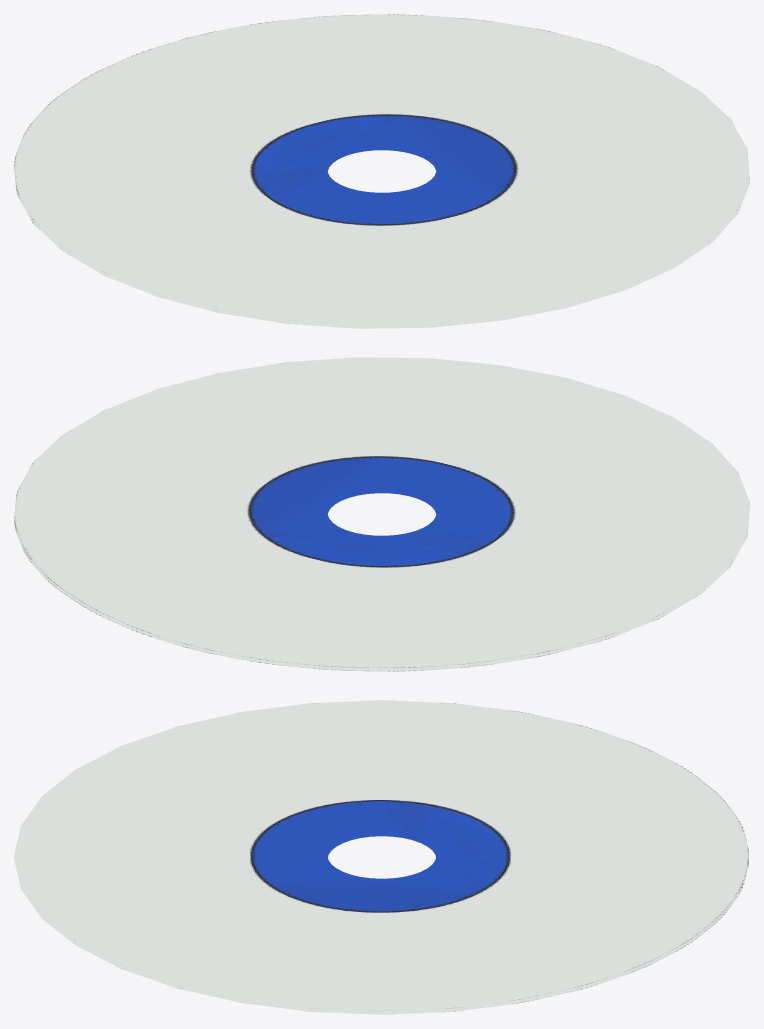
The model's file is laserdisc.obj.
3 renders of one model, top to bottom at view 1: azimuth 30°, elevation 25°; view 2: azimuth 150°, elevation 25°; view 3: azimuth 270°, elevation 25°, orthographic.
Visible parts, largest first — view 1: default; view 2: default; view 3: default.
Boxes of the visible parts, x1,y1,x2,y2 form: default: (14, 14, 749, 328); default: (14, 357, 749, 671); default: (14, 700, 748, 1014).
Size of the model in its own units: 0.24 by 0.00125 by 0.24.
Materials: 1 (1 with a texture image).
